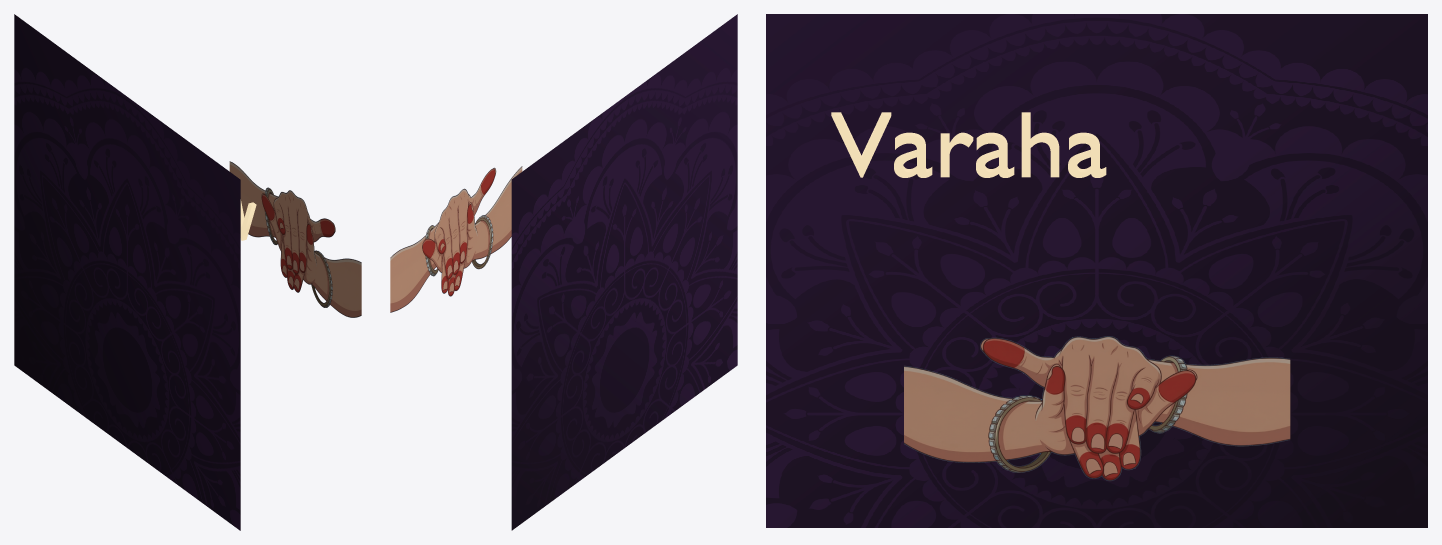
The model's file is Varaha.glb.
The picture shows the model from 3 angles, left to right: view 1: azimuth 30°, elevation 25°; view 2: azimuth 150°, elevation 25°; view 3: azimuth 270°, elevation 25°; orthographic projection. The views are drawn at different scales.
Parts seen in each view (by area): view 1: Plane.017, Anjali.017, Text.039; view 2: Plane.017, Anjali.017; view 3: Plane.017, Anjali.017, Text.039.
Boxes of the visible parts, bbox=[...] form: Plane.017: bbox=[14, 14, 240, 530]; Anjali.017: bbox=[229, 161, 361, 317]; Text.039: bbox=[240, 199, 256, 240]; Plane.017: bbox=[511, 14, 737, 530]; Anjali.017: bbox=[390, 166, 522, 312]; Plane.017: bbox=[766, 14, 1427, 527]; Anjali.017: bbox=[904, 336, 1290, 480]; Text.039: bbox=[831, 112, 1106, 177].
Size of the model in its own units: 1.53 by 3.05 by 3.56.
3 materials, 2 textured.
